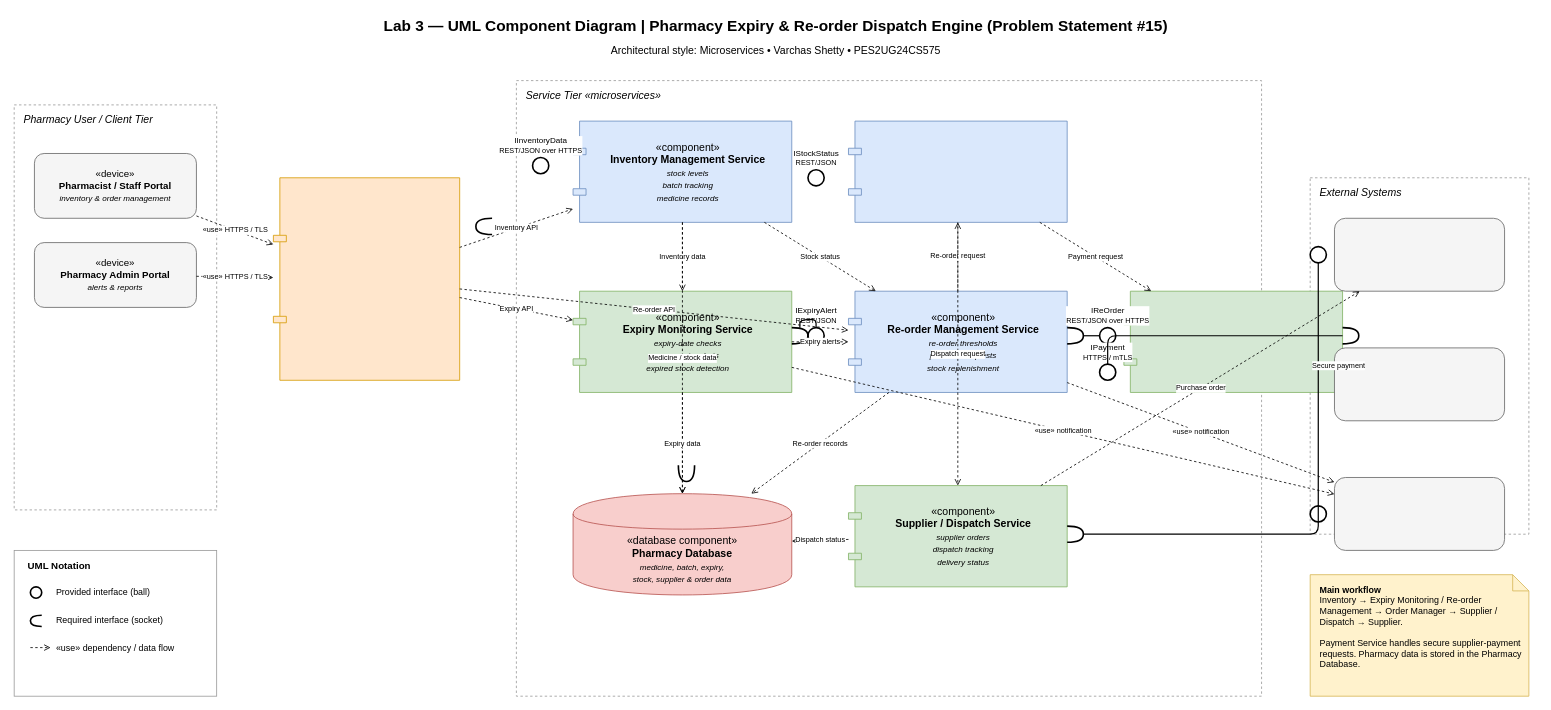
This 1551x710 diagram has some shape labels left out. Each missing label, with the centre of its shape:
IDispatch HTTPS: point (1318, 254)
INotification HTTPS: point (1318, 513)
«component» API Gateway request routing authentication TLS termination: point (366, 278)
«component» Order Manager re-order coordination order status: point (957, 171)
«component» Payment Service supplier payment requests payment status: point (1233, 341)
«external system» Medicine Supplier purchase order / dispatch: point (1419, 254)
«external system» Notification Service expiry / re-order alerts: point (1419, 513)
«external system» Payment Gateway secure payment processing: point (1419, 384)
